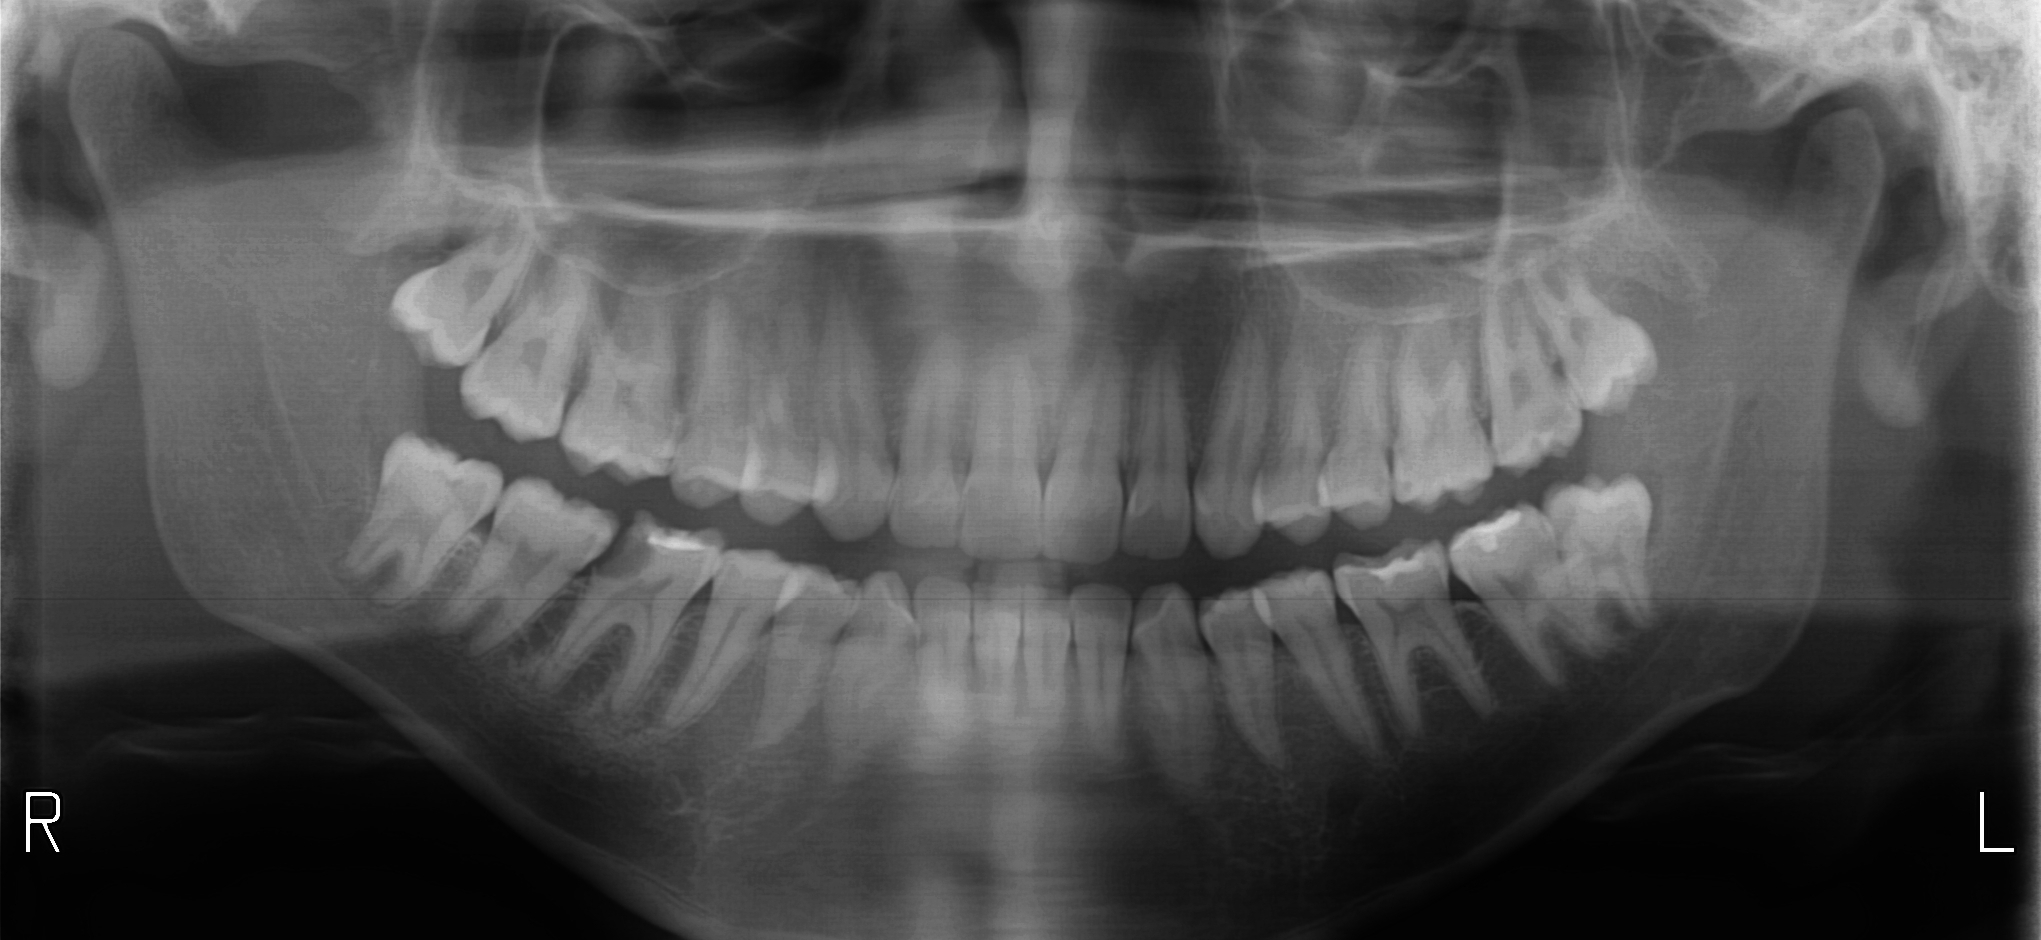cavity: (597, 521, 651, 573)
